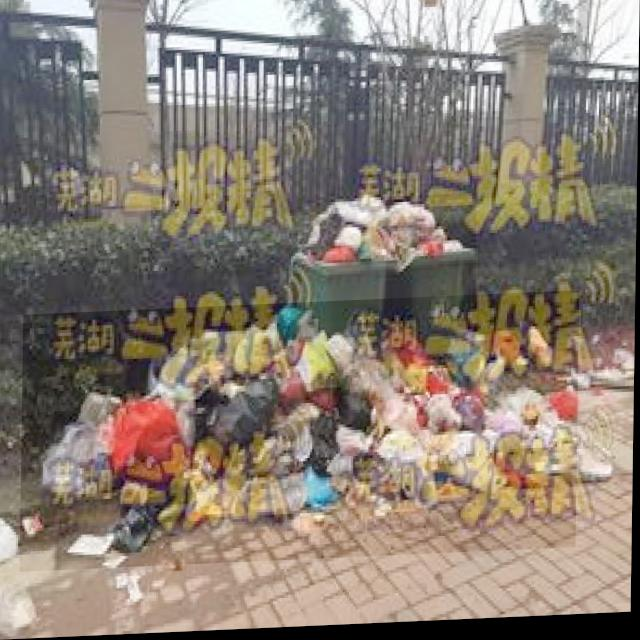garbage: (21, 295, 580, 572)
overflow: (293, 195, 384, 340), (386, 197, 477, 340)
